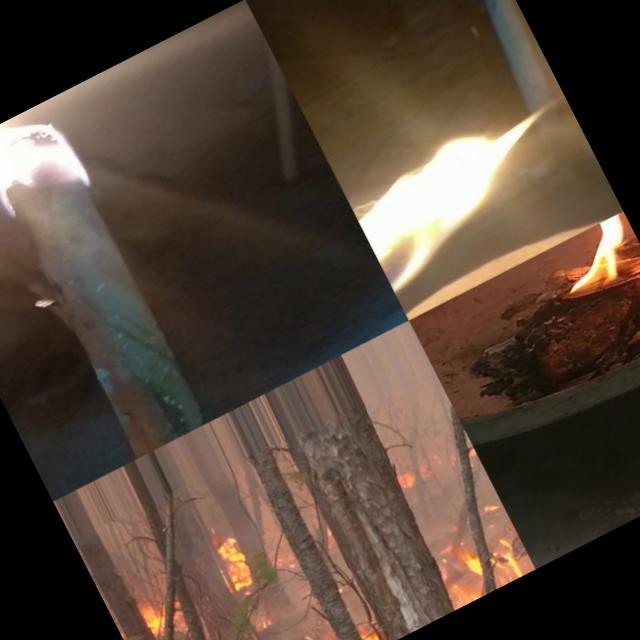fire: (334, 66, 609, 296), (0, 86, 116, 264), (421, 512, 536, 613), (554, 210, 640, 343), (200, 526, 270, 605), (214, 602, 351, 640)
